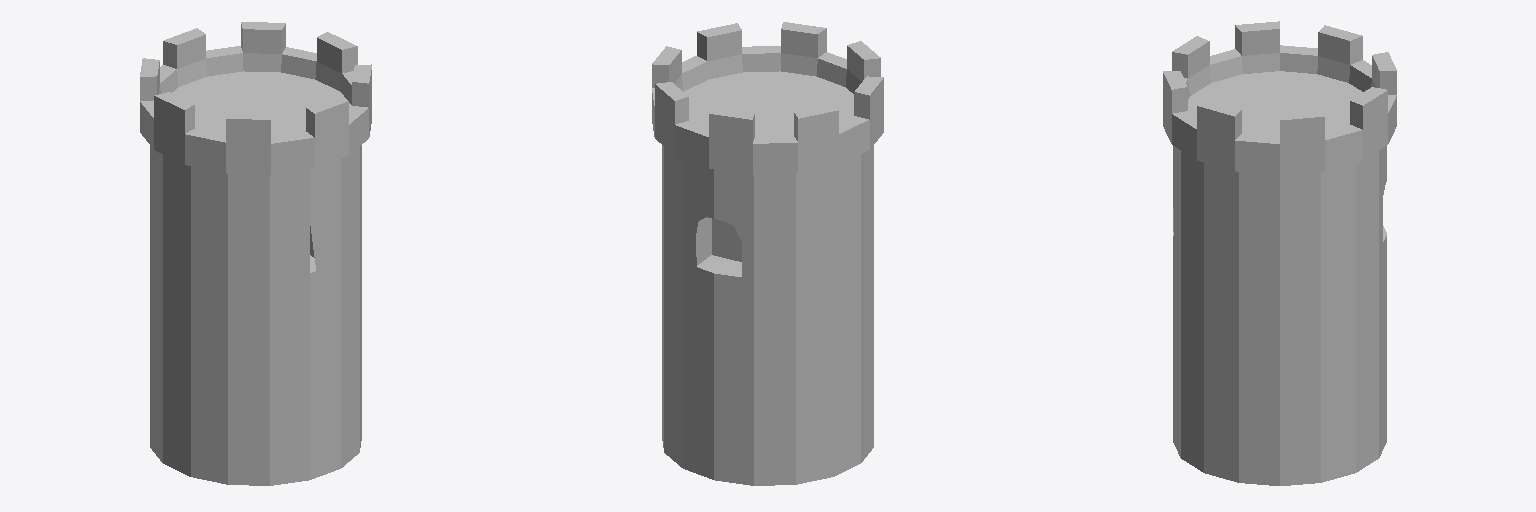
Rendered from castleTower.obj.
The picture shows the model from 3 angles: view 1: azimuth 30°, elevation 25°; view 2: azimuth 150°, elevation 25°; view 3: azimuth 270°, elevation 25°; orthographic projection.
Visible parts, largest first — view 1: Cylinder.006; view 2: Cylinder.006; view 3: Cylinder.006.
Boxes of the visible parts, x1,y1,x2,y2 form: Cylinder.006: [140, 22, 371, 485]; Cylinder.006: [652, 22, 883, 485]; Cylinder.006: [1163, 21, 1396, 485].
Bounding box in the file's own units: 5.37 × 9.35 × 5.37.